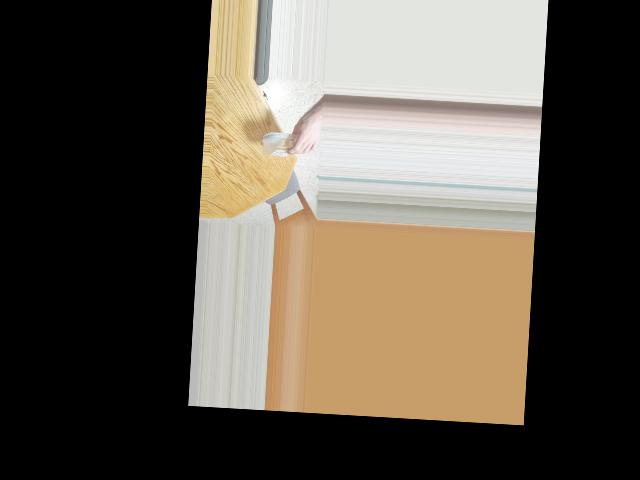cheese: (264, 124, 311, 165)
